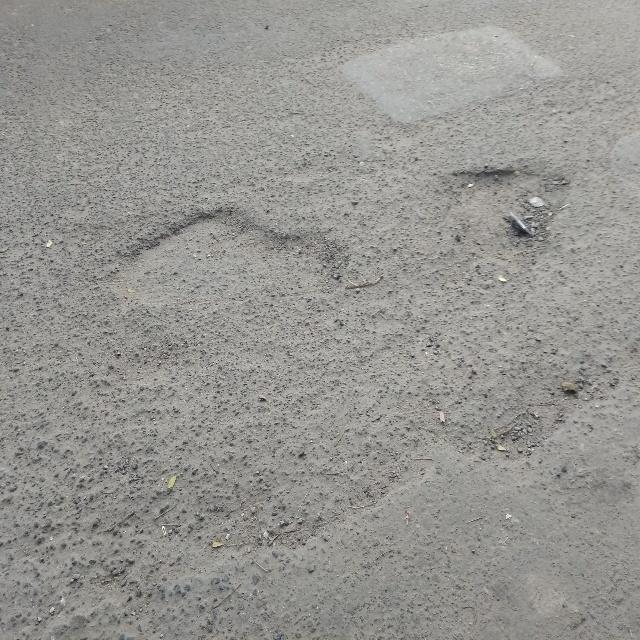Pothole: (146, 188, 304, 316), (426, 167, 544, 256)
